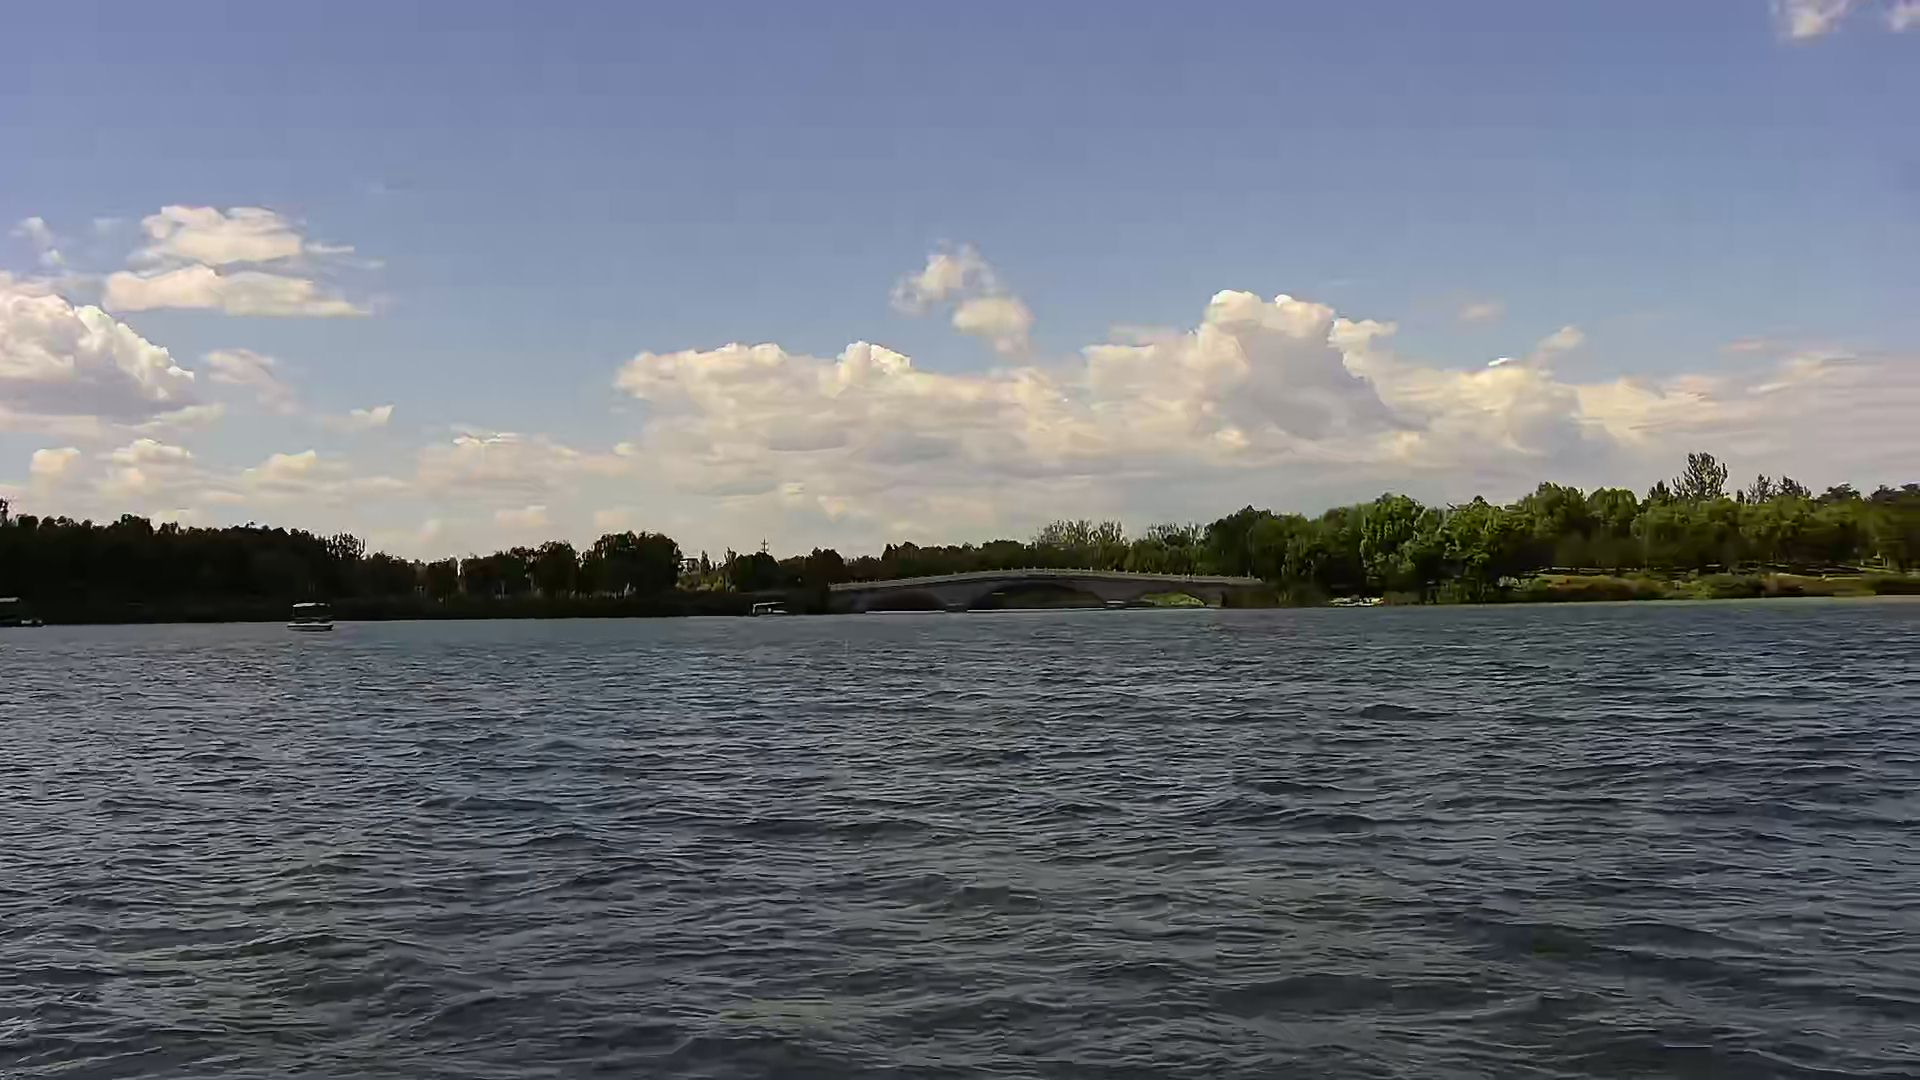boat: (285, 601, 344, 640)
bridge: (831, 568, 1276, 613)
